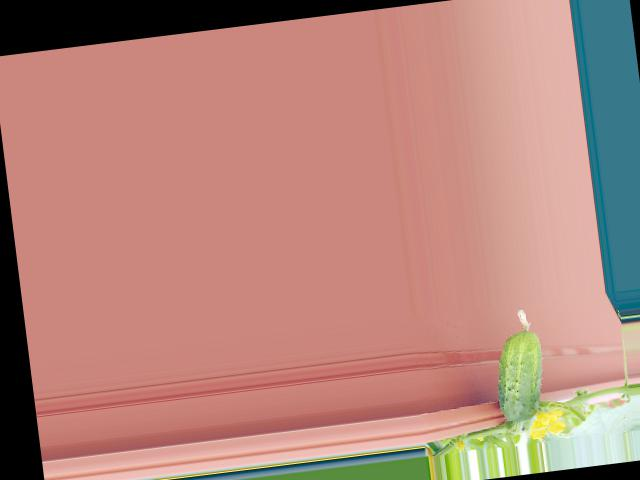cucumber: (488, 306, 550, 424)
